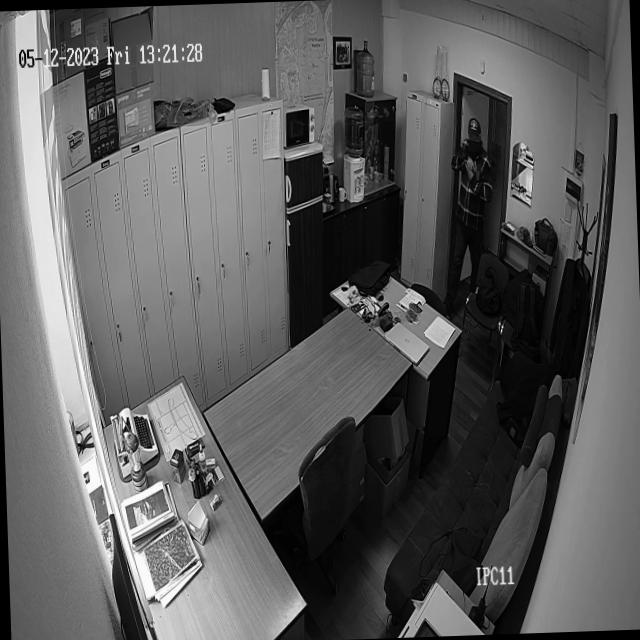gun: (468, 142, 482, 170)
person with a gun: (452, 113, 502, 304)
